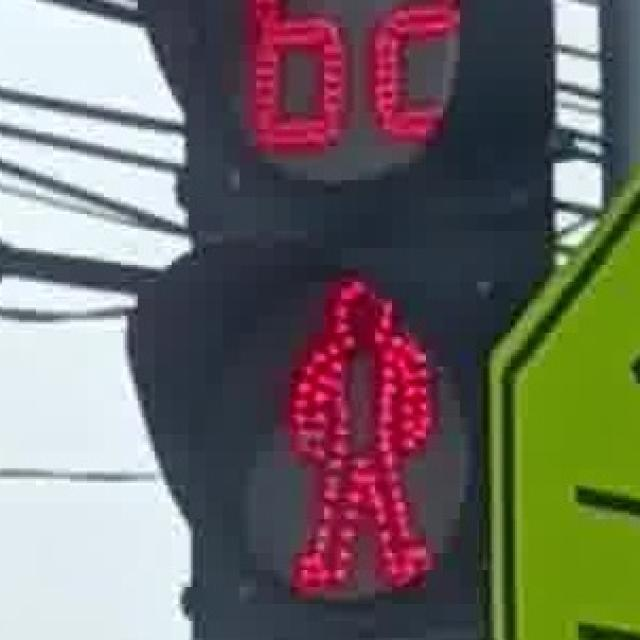red_light: (265, 258, 447, 594)
